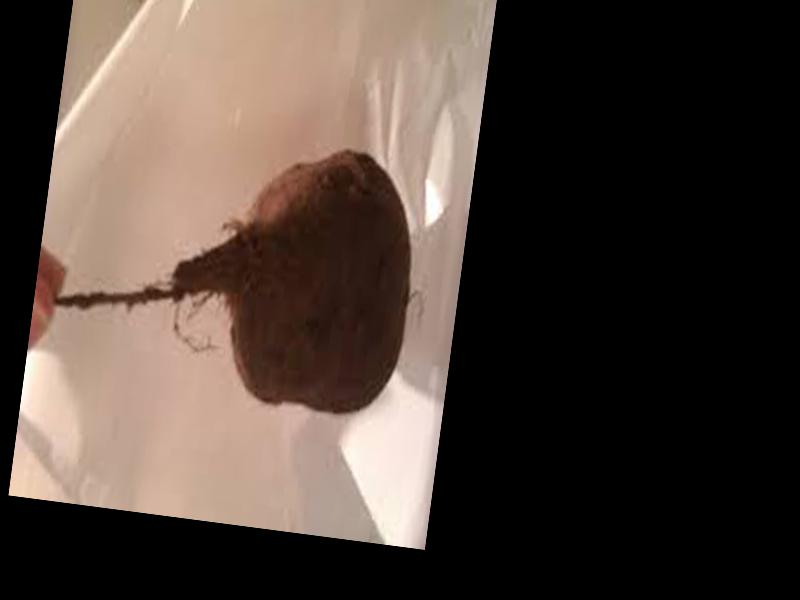Beet: (40, 112, 427, 420)
